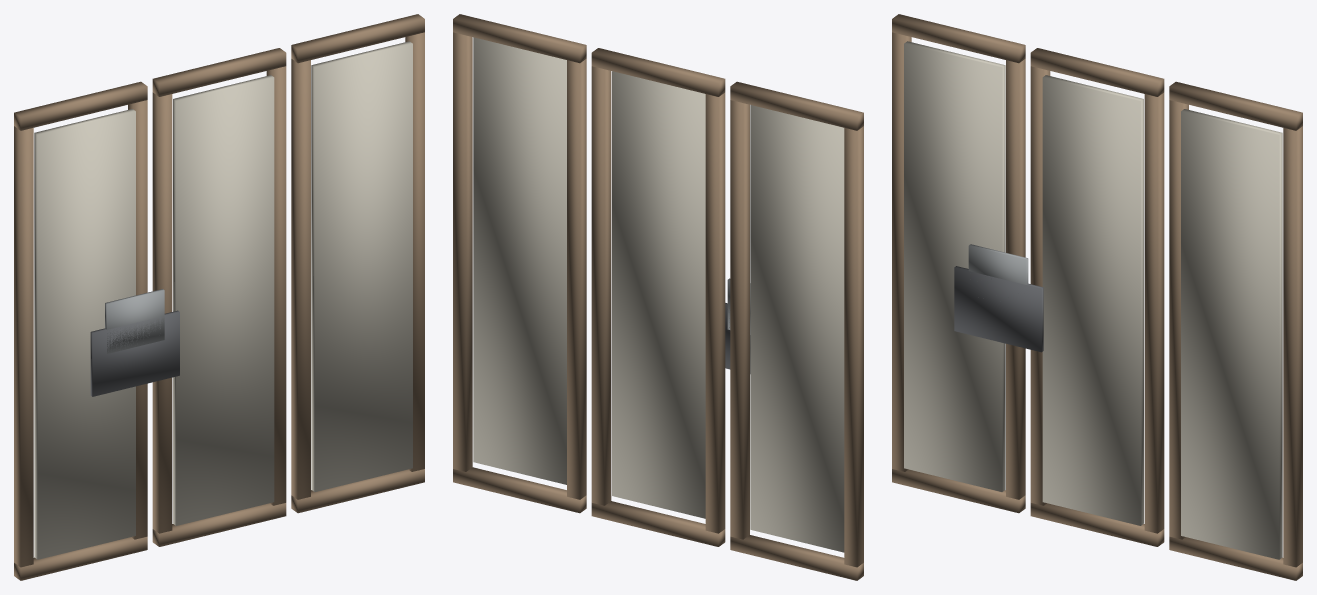
The model's file is funeral_folding_screen__weathered.glb.
3 views of the same model, side by side, from view 1: azimuth 30°, elevation 25°; view 2: azimuth 150°, elevation 25°; view 3: azimuth 330°, elevation 25° (orthographic).
Parts seen in each view (by area): view 1: world; view 2: world; view 3: world.
Boxes of the visible parts, bbox=[...] form: world: bbox=[14, 14, 424, 580]; world: bbox=[453, 14, 863, 580]; world: bbox=[892, 14, 1302, 580].
Size of the model in its own units: 1.4 by 1.53 by 0.069.
